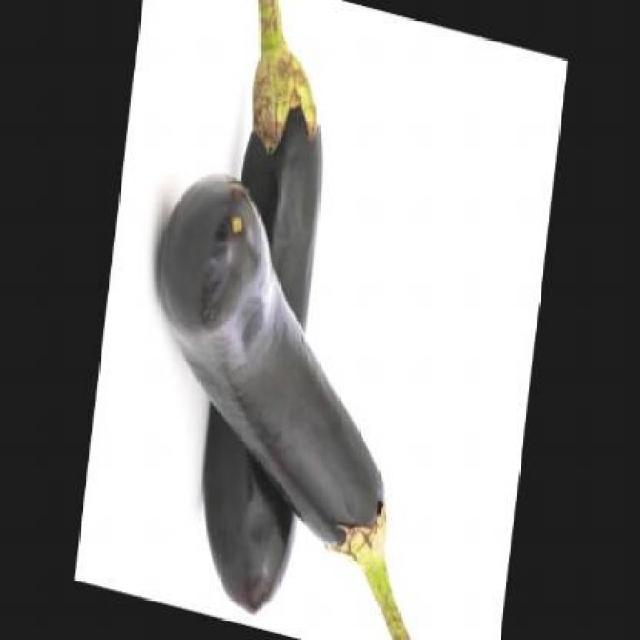eggplant: (156, 173, 416, 639), (179, 0, 358, 628)
